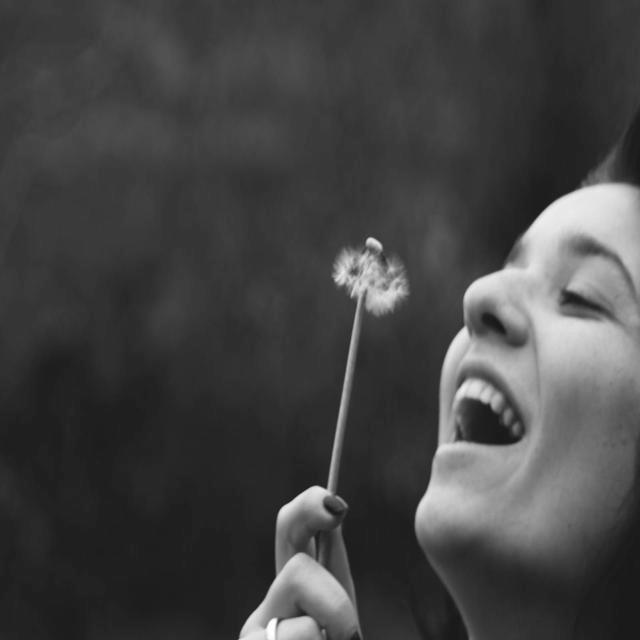Happiness: (410, 183, 640, 597)
